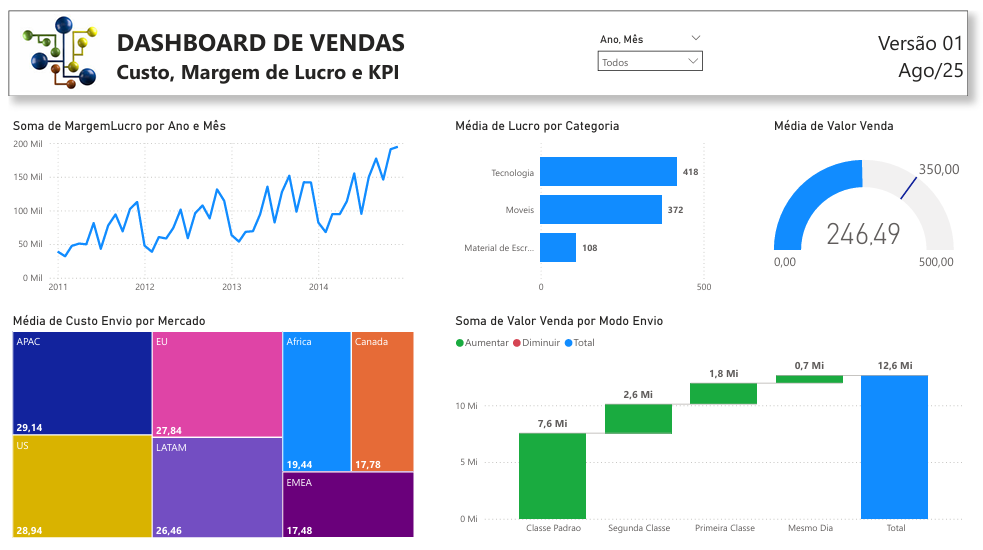

This screenshot's page, from the dashboard's own definition file:
{"tool":"powerbi","page":{"name":"lab_02","canvas":[1280,720],"ordinal":0},"visuals":[{"type":"waterfallChart","fields":{"Category":["Pedidos.Modo Envio"],"Y":["Sum(Vendas.Valor Venda)"]},"box":[590.7,404.1,689.1,304.2],"z":0},{"type":"treemap","fields":{"Group":["Clientes.Mercado"],"Values":["Avg(Vendas.Custo Envio)"]},"box":[0,404.1,545.1,304.2],"z":1000},{"type":"gauge","fields":{"Y":["Avg(Vendas.Valor Venda)"]},"box":[1015.3,142.5,264.5,242.4],"z":2000},{"type":"slicer","fields":{"Values":["Pedidos.Data Pedido.Variation.Hierarquia de datas.Ano","Pedidos.Data Pedido.Variation.Hierarquia de datas.Mês"]},"box":[775,25,160,63.3],"z":3000},{"type":"barChart","fields":{"Category":["Produtos.Categoria"],"Y":["Avg(Vendas.Lucro)"]},"box":[590.7,142.5,424.7,242.4],"z":4000},{"type":"lineChart","fields":{"Y":["Sum(Vendas.MargemLucro)"],"Category":["Pedidos.Data Pedido.Variation.Hierarquia de datas.Ano","Pedidos.Data Pedido.Variation.Hierarquia de datas.Mês"]},"box":[0,142.5,536.3,242.4],"z":5000},{"type":"image","box":[0,0,138.1,113.1],"z":6000},{"type":"textbox","box":[138.1,13.2,523.1,99.9],"z":7000},{"type":"textbox","box":[1091.7,18.3,186.7,88.3],"z":7001},{"type":"shape","box":[0,0,1278.3,113.3],"z":7002}]}

Visuals, with their boxes in screenshot pixels (x1, y1, x2, y2), scaled from the page's 1280x720 canvas onto the 983x550 screenshot:
waterfallChart - Pedidos.Modo Envio x Sum(Vendas.Valor Venda): [454, 309, 982, 541]
treemap - Clientes.Mercado x Avg(Vendas.Custo Envio): [0, 309, 419, 541]
gauge - Avg(Vendas.Valor Venda): [780, 109, 982, 294]
slicer - Pedidos.Data Pedido.Variation.Hierarquia de datas.Ano x Pedidos.Data Pedido.Variation.Hierarquia de datas.Mês: [595, 19, 718, 67]
barChart - Produtos.Categoria x Avg(Vendas.Lucro): [454, 109, 780, 294]
lineChart - Sum(Vendas.MargemLucro) x Pedidos.Data Pedido.Variation.Hierarquia de datas.Ano: [0, 109, 412, 294]
image: [0, 0, 106, 86]
textbox: [106, 10, 508, 86]
textbox: [838, 14, 982, 81]
shape: [0, 0, 982, 87]
